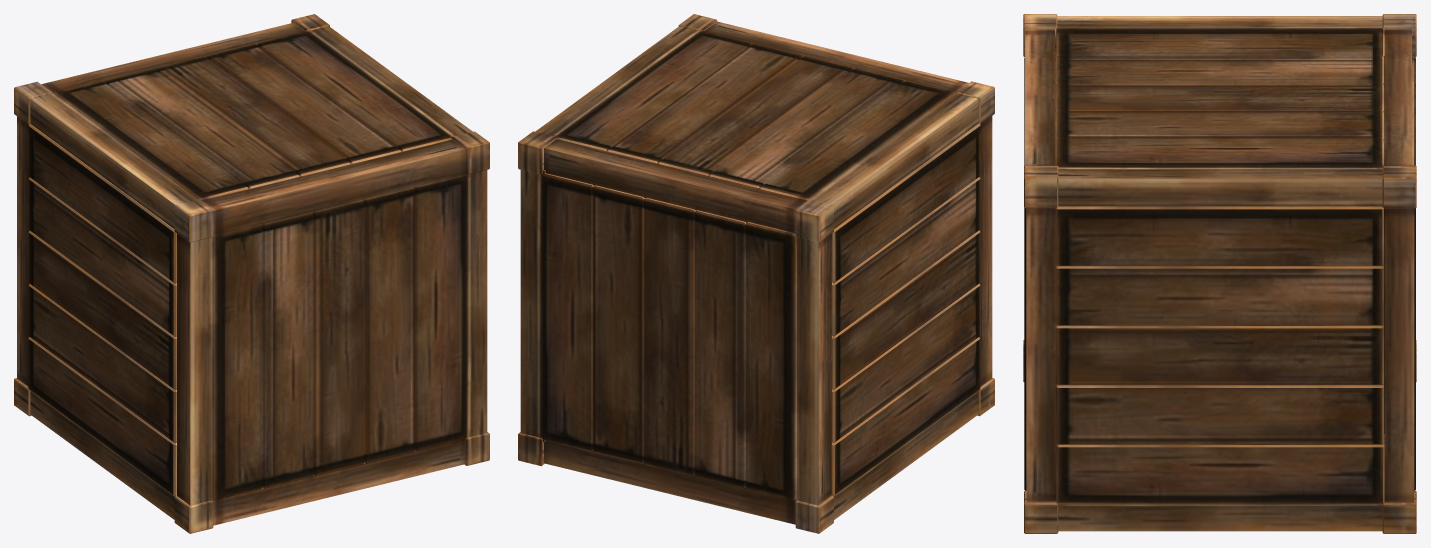
The picture shows the model from 3 angles, left to right: view 1: azimuth 30°, elevation 25°; view 2: azimuth 150°, elevation 25°; view 3: azimuth 270°, elevation 25°; orthographic projection. The views are drawn at different scales.
Visible parts, largest first — view 1: OceanBoxArrow004; view 2: OceanBoxArrow004; view 3: OceanBoxArrow004.
Part boxes in pixels (box(x1,y1,x2,y2)): OceanBoxArrow004: box(14, 14, 489, 533); OceanBoxArrow004: box(518, 14, 994, 533); OceanBoxArrow004: box(1023, 14, 1416, 533).
Size of the model in its own units: 200 by 201 by 201.
1 material, 1 textured.
